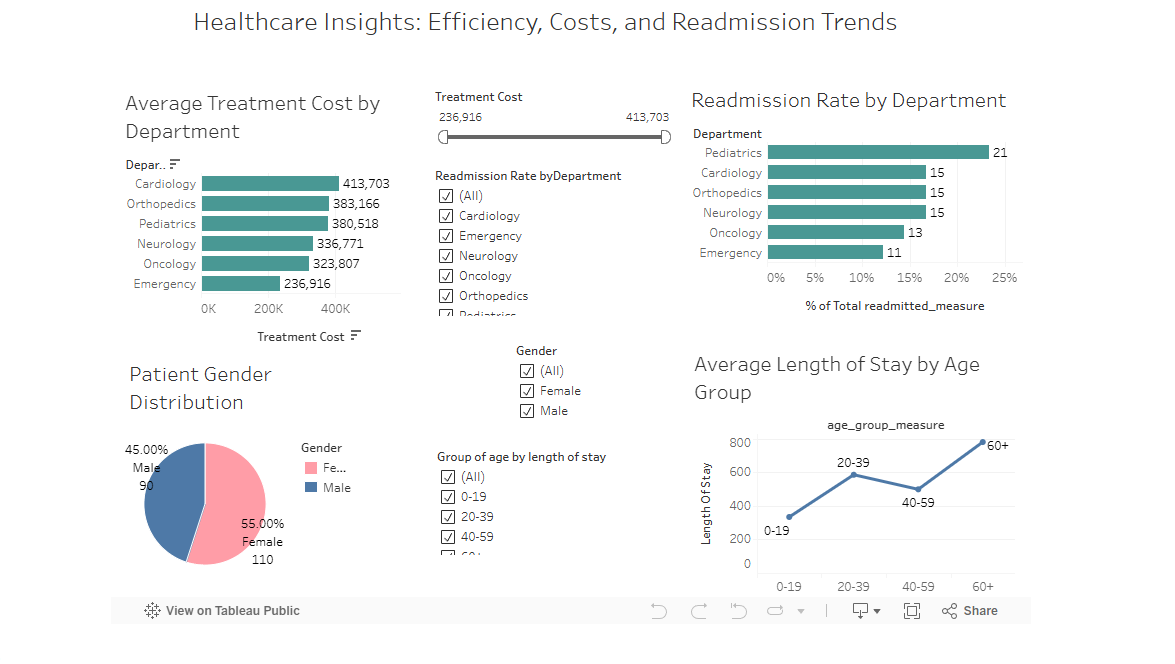

The dashboard page shown, as its layout file describes it:
{"tool":"tableau","page":{"name":"Healthcare Insights: Efficiency, Costs, and Readmission Trends","canvas":[1000,1000],"units":"permille","ordinal":0},"visuals":[{"type":"title","box":[89.1,45.3,797.8,61.3]},{"type":"worksheet","title":"Readmission Rate by Department","mark":"Bar","rows":["Department"],"cols":["Calculation_297237630462455808"],"box":[626.1,167.9,365.2,420.4]},{"type":"worksheet","title":"Average Treatment Cost by Department","mark":"Automatic","rows":["Department"],"cols":["TreatmentCost"],"box":[10.9,173.7,321.7,439.4]},{"type":"filter","title":"Average Treatment Cost by Department","param":"[federated.03njqgq0eqs1dr19nab1g1ombm33].[sum:TreatmentCost:qk]","box":[352.2,181,258.7,100.7]},{"type":"filter","title":"Readmission Rate by Department","param":"[federated.03njqgq0eqs1dr19nab1g1ombm33].[none:Department:nk]","box":[352.2,308,257.6,240.9]},{"type":"filter","title":"Patient Gender Distribution","param":"[federated.03njqgq0eqs1dr19nab1g1ombm33].[none:Gender:nk]","box":[440.2,588.3,81.5,129.9]},{"type":"worksheet","title":"Average Length of Stay by Age Group","mark":"Line","rows":["LengthOfStay"],"cols":["Calculation_297237630462779393"],"box":[629.4,592.7,353.3,404.4]},{"type":"worksheet","title":"Patient Gender Distribution","mark":"Pie","box":[15.2,608.8,323.9,388.3]},{"type":"legend","title":"Patient Gender Distribution","param":"[federated.03njqgq0eqs1dr19nab1g1ombm33].[none:Gender:nk]","box":[206.5,746,76.1,84.7]},{"type":"filter","title":"Average Length of Stay by Age Group","param":"[federated.03njqgq0eqs1dr19nab1g1ombm33].[none:Calculation_297237630462779393:nk","box":[354.4,759.1,258.7,173.7]}]}

Visuals, with their boxes on the dashboard's canvas, which has no fixed pixel size, in thousandths of its width and height (x1, y1, x2, y2). These are canvas units, not pixel positions in the 1175x664 screenshot, which may show the page scaled, cropped or inside an application window:
title: bbox(89, 45, 887, 107)
"Readmission Rate by Department" worksheet (Bar marks): bbox(626, 168, 991, 588)
"Average Treatment Cost by Department" worksheet: bbox(11, 174, 333, 613)
"Average Treatment Cost by Department" filter: bbox(352, 181, 611, 282)
"Readmission Rate by Department" filter: bbox(352, 308, 610, 549)
"Patient Gender Distribution" filter: bbox(440, 588, 522, 718)
"Average Length of Stay by Age Group" worksheet (Line marks): bbox(629, 593, 983, 997)
"Patient Gender Distribution" worksheet (Pie marks): bbox(15, 609, 339, 997)
"Patient Gender Distribution" legend: bbox(206, 746, 283, 831)
"Average Length of Stay by Age Group" filter: bbox(354, 759, 613, 933)
